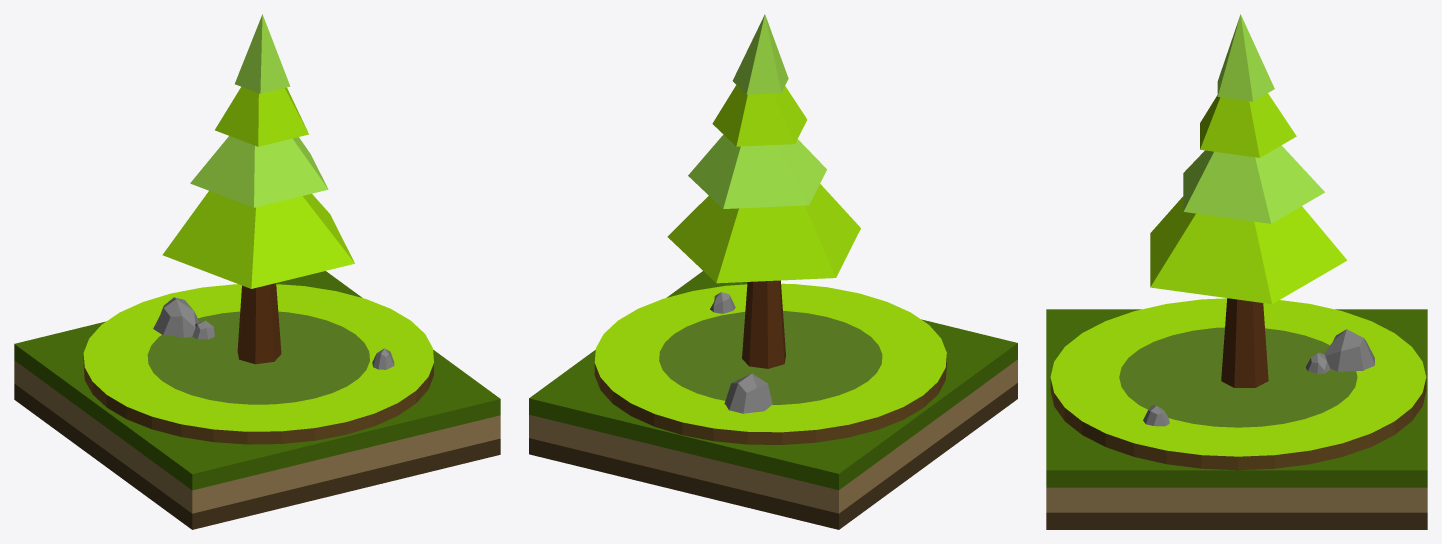
Rendered from Tree2Prefab.fbx.
3 renders of one model, left to right at view 1: azimuth 30°, elevation 25°; view 2: azimuth 150°, elevation 25°; view 3: azimuth 270°, elevation 25°, orthographic. The views are drawn at different scales.
Visible parts, largest first — view 1: Circle.022, tree ground.001, Circle.021, Circle.023, Circle.024, Circle.026, Circle.025, Plane.034; view 2: Circle.022, tree ground.001, Circle.021, Circle.023, Circle.024, Circle.026, Circle.025, Plane.034; view 3: Circle.022, tree ground.001, Circle.021, Circle.023, Circle.024, Circle.026, Circle.025, Plane.034.
Part boxes in pixels (x1,y1,x2,y2): Circle.022: (83, 284, 433, 444); tree ground.001: (14, 271, 500, 529); Circle.021: (162, 191, 354, 288); Circle.023: (190, 136, 328, 207); Circle.024: (215, 87, 308, 146); Circle.026: (237, 283, 281, 364); Circle.025: (235, 14, 290, 93); Plane.034: (153, 297, 199, 337); Circle.022: (594, 283, 946, 444); tree ground.001: (529, 271, 1017, 529); Circle.021: (667, 184, 860, 283); Circle.023: (688, 134, 826, 208); Circle.024: (712, 85, 807, 146); Circle.026: (742, 280, 785, 368); Circle.025: (732, 14, 788, 94); Plane.034: (724, 373, 772, 413); Circle.022: (1050, 298, 1426, 470); tree ground.001: (1046, 309, 1427, 529); Circle.021: (1150, 196, 1347, 304); Circle.023: (1183, 145, 1324, 223); Circle.024: (1200, 93, 1296, 157); Circle.026: (1221, 298, 1268, 387); Circle.025: (1217, 14, 1274, 101); Plane.034: (1324, 329, 1374, 371).
Bounding box in the file's own units: 194 × 247 × 194.
